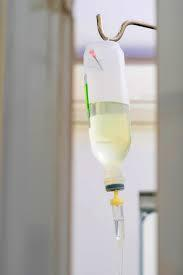Iv_Bottle: (84, 41, 130, 190)
